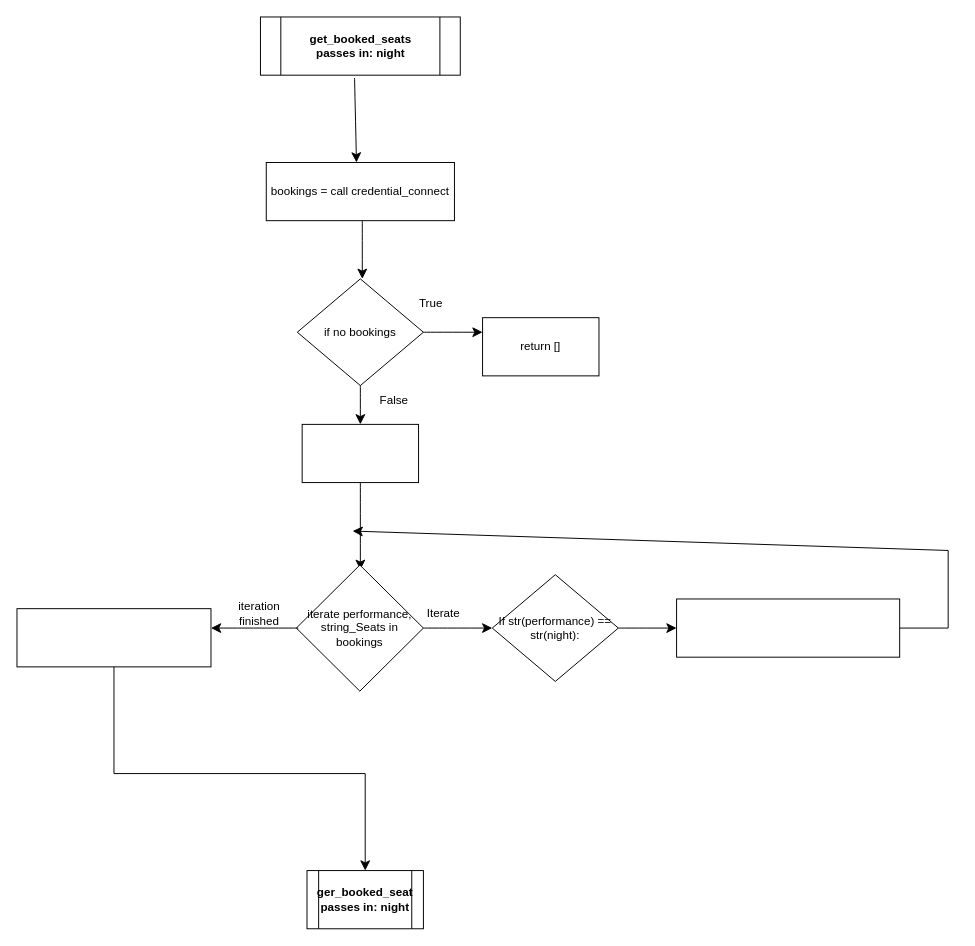
Image size: 975x946. Some labels were removed from this diagram. The shapes that lost their labels are listed below. From the top down, each one's centre as x and y in pixels, then its label:
At (360,453): "booked = []".
At (113,637): "return [seats.strip() for seatss in booked]".
At (788,627): "bookings.extens(string_seats.split(',')".
